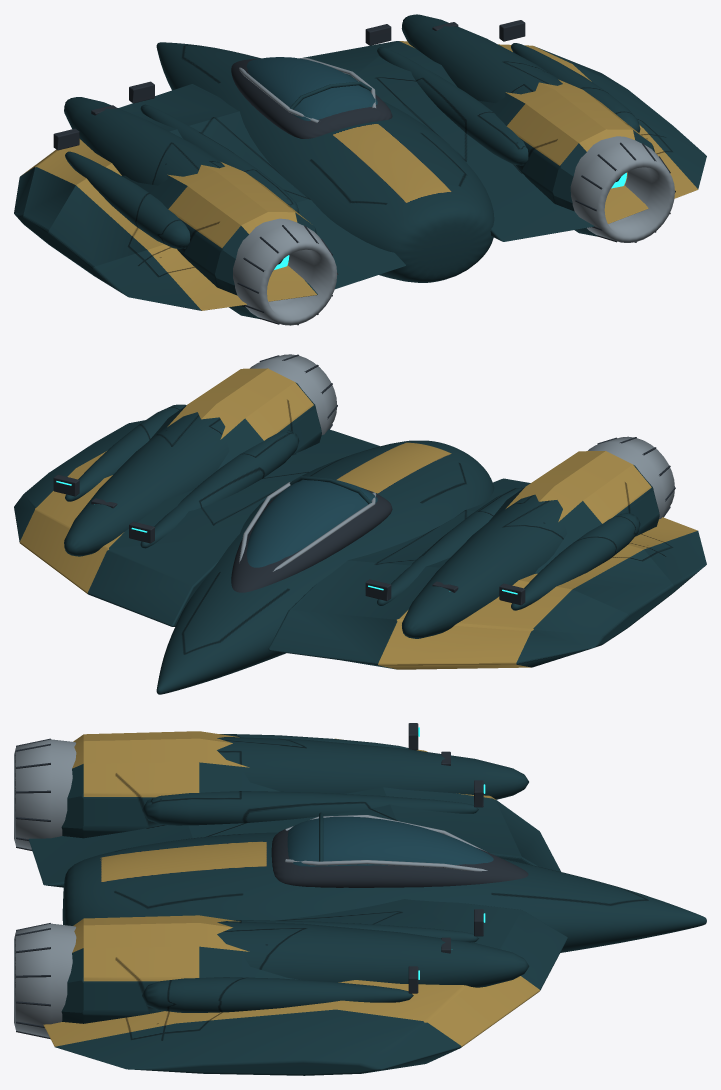
3 renders of one model, top to bottom at view 1: azimuth 30°, elevation 25°; view 2: azimuth 150°, elevation 25°; view 3: azimuth 270°, elevation 25°, orthographic. The views are drawn at different scales.
Visible parts, largest first — view 1: DroneSovereignV2; view 2: DroneSovereignV2; view 3: DroneSovereignV2.
Part boxes in pixels (x1,y1,x2,y2): DroneSovereignV2: (14, 14, 706, 325); DroneSovereignV2: (14, 354, 706, 694); DroneSovereignV2: (14, 723, 706, 1075).
Size of the model in its own units: 3.44 by 0.7206 by 3.18.
6 materials, 2 textured.
